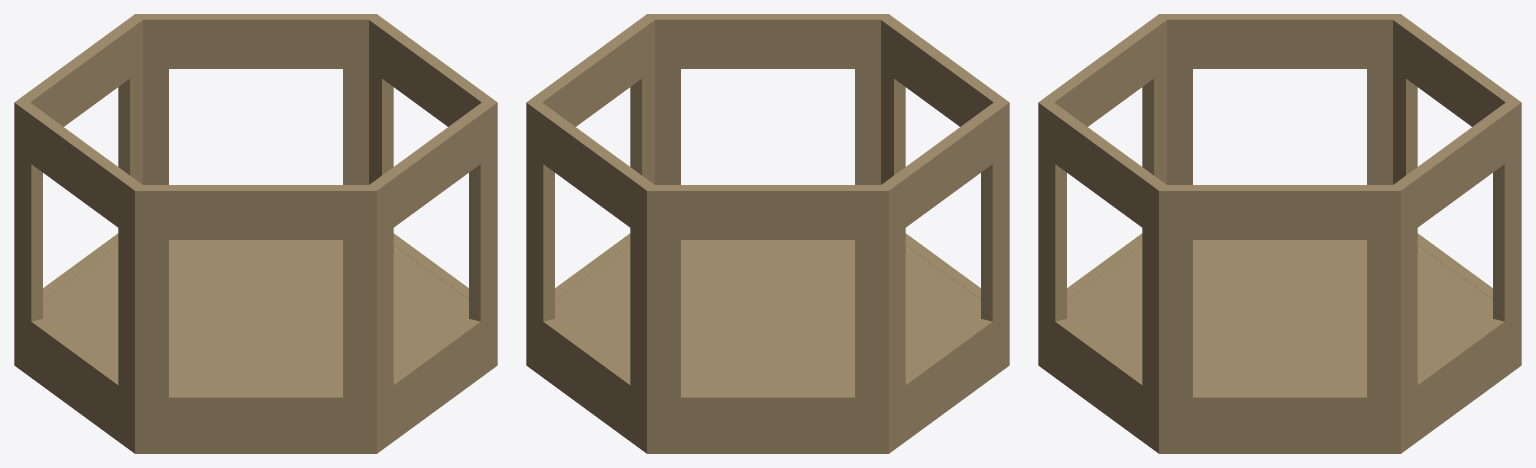
File: hexagonal-module.dae
The picture shows the model from 3 angles, left to right: view 1: azimuth 30°, elevation 25°; view 2: azimuth 150°, elevation 25°; view 3: azimuth 270°, elevation 25°; orthographic projection.
Visible parts, largest first — view 1: hexagonal-module; view 2: hexagonal-module; view 3: hexagonal-module.
Part boxes in pixels (x1,y1,x2,y2): hexagonal-module: (14, 14, 497, 453); hexagonal-module: (526, 14, 1009, 453); hexagonal-module: (1038, 14, 1521, 453).
Bounding box in the file's own units: 3.46 × 4 × 2.4.
